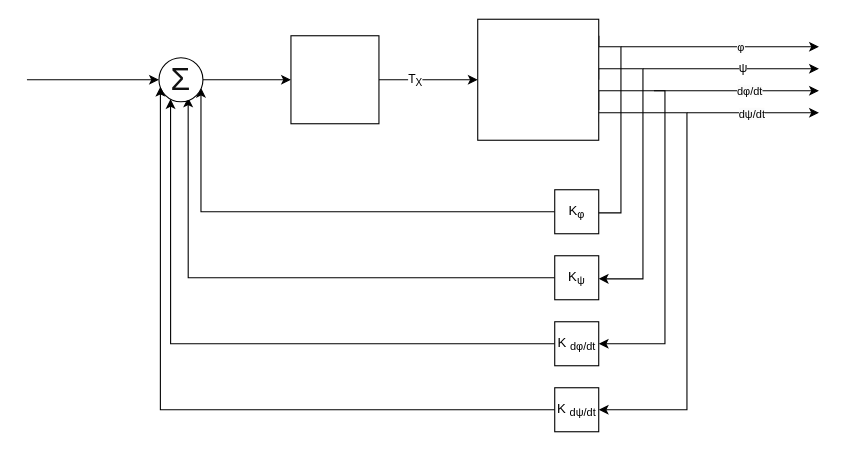
This 847x451 diagram has some shape labels left out. Each missing label, with the centre of its shape:
"CubeSat" goes at (x=538, y=79).
"RDR" goes at (x=334, y=79).
